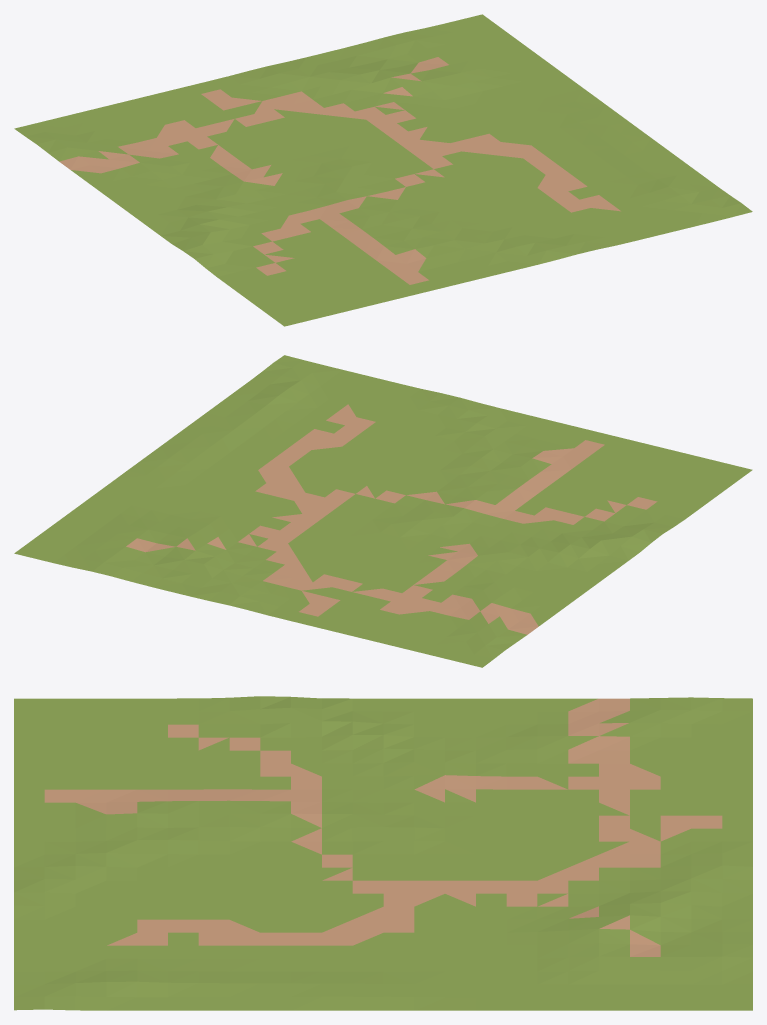
Rendered from chapter.fbx.
3 renders of one model, top to bottom at view 1: azimuth 30°, elevation 25°; view 2: azimuth 150°, elevation 25°; view 3: azimuth 270°, elevation 25°, orthographic. The views are drawn at different scales.
Visible parts, largest first — view 1: Plane.019; view 2: Plane.019; view 3: Plane.019.
Boxes of the visible parts, box(x1,y1,x2,y2) form: Plane.019: box(14, 14, 752, 326); Plane.019: box(14, 355, 752, 667); Plane.019: box(14, 696, 752, 1010).
Size of the model in its own units: 150 by 0.9911 by 150.
